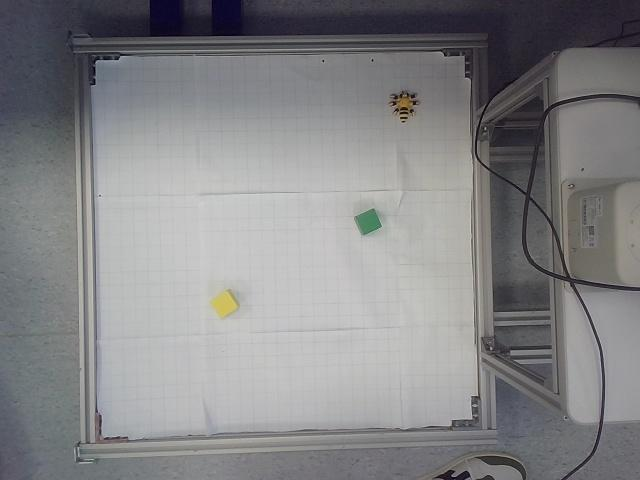frelon: (388, 90, 421, 124)
